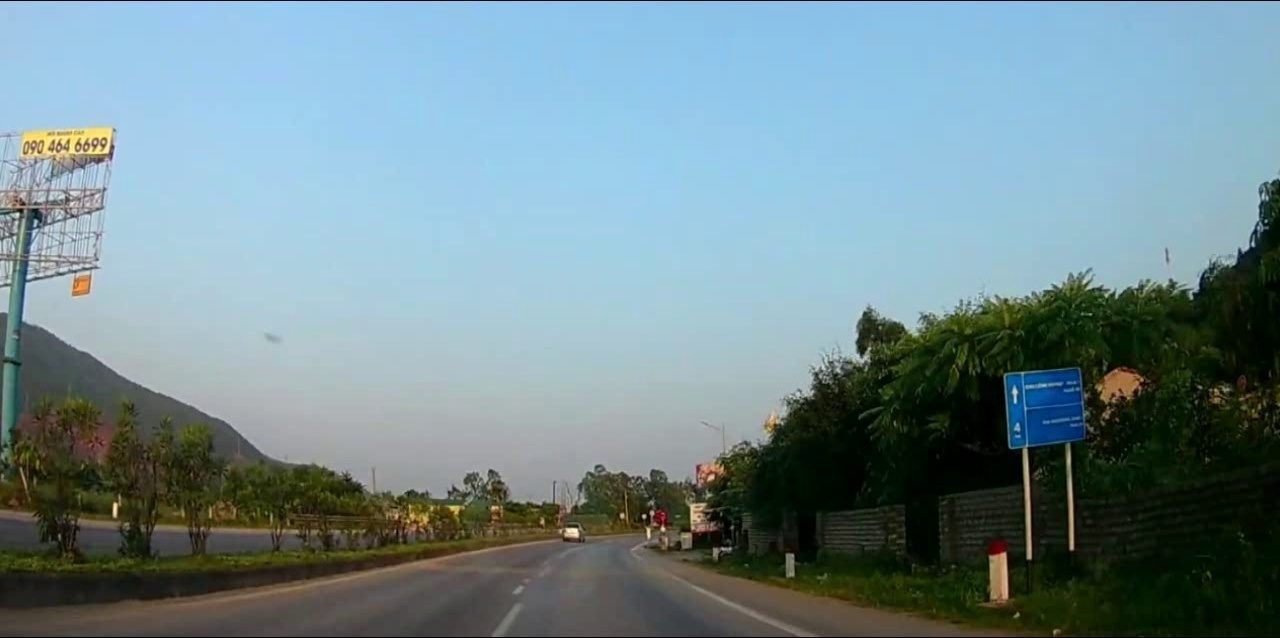Bien khac: (1004, 371, 1088, 447)
